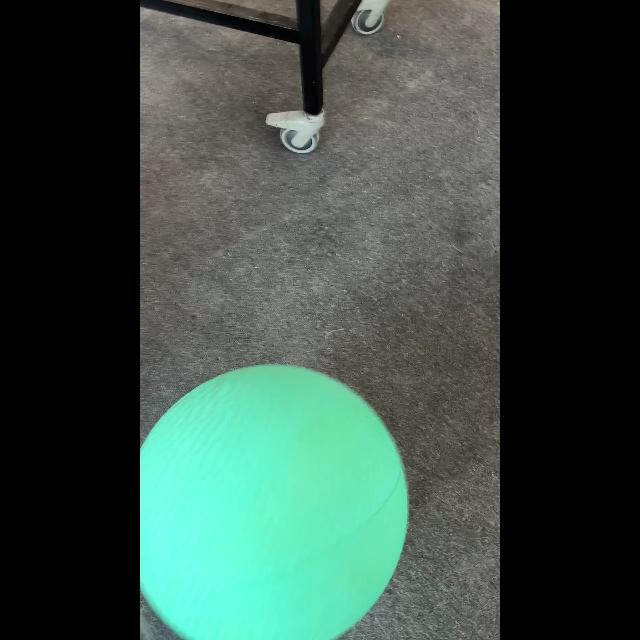ALGAE: (140, 363, 410, 639)
